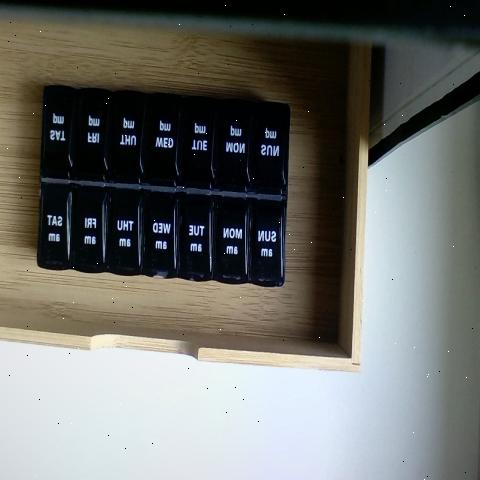FRI-am: (76, 186, 110, 273)
FRI-pm: (76, 96, 111, 180)
MON-am: (216, 197, 253, 279)
MON-pm: (217, 101, 256, 187)
SAT-am: (38, 181, 74, 270)
SAT-pm: (42, 95, 75, 177)
SUN-am: (252, 196, 284, 282)
SUN-pm: (254, 104, 288, 191)
THU-am: (110, 188, 145, 277)
THU-pm: (114, 95, 146, 179)
TUE-am: (182, 197, 214, 276)
TUE-pm: (181, 101, 219, 185)
WED-am: (145, 188, 181, 274)
WED-pm: (147, 97, 182, 182)
